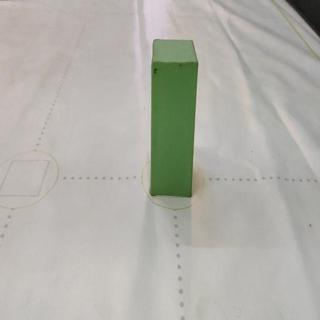greenbox: (149, 33, 201, 198)
